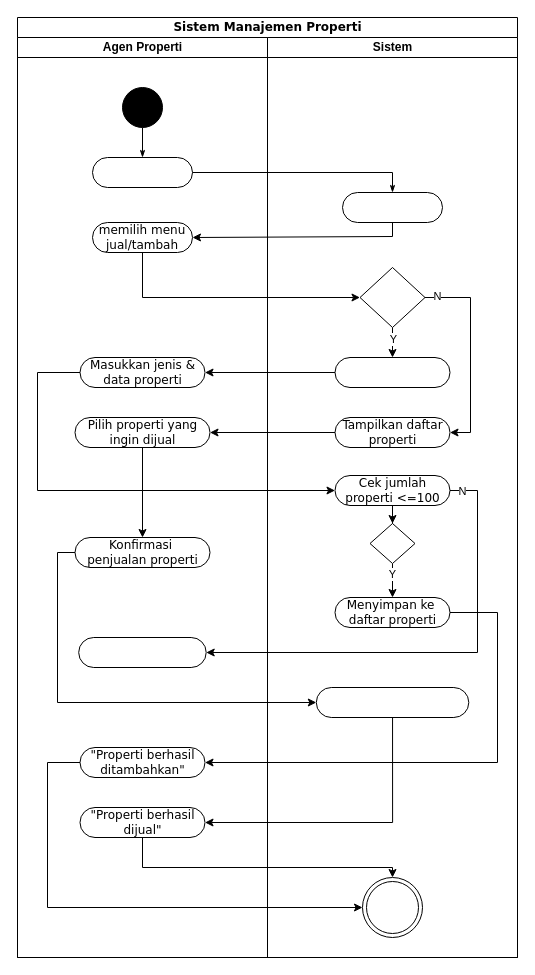
This 535x975 diagram has some shape labels left out. Here are the shapes that lost their labels. From the top down, the centre of each, then its label:
the point at 142,172: Buka Aplikasi
the point at 392,207: Tampilkan menu utama
the point at 392,297: tambah?
the point at 392,372: Tampilkan form input properti
the point at 142,652: "Daftar Properti Penuh"
the point at 392,702: Hapus properti terjual dari daftar properti
